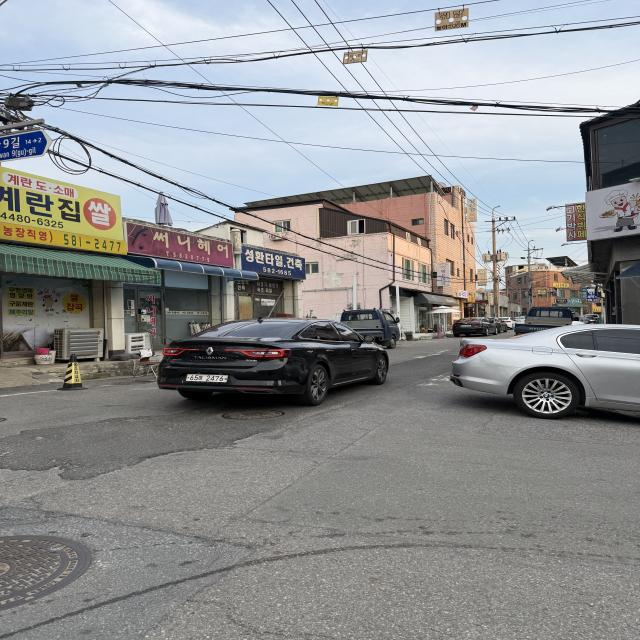car: (160, 313, 386, 405), (454, 322, 639, 421), (330, 308, 407, 353), (514, 300, 577, 340), (453, 317, 503, 336)
